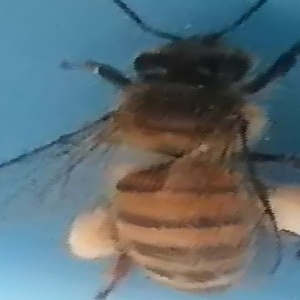bee: (45, 3, 297, 300)
